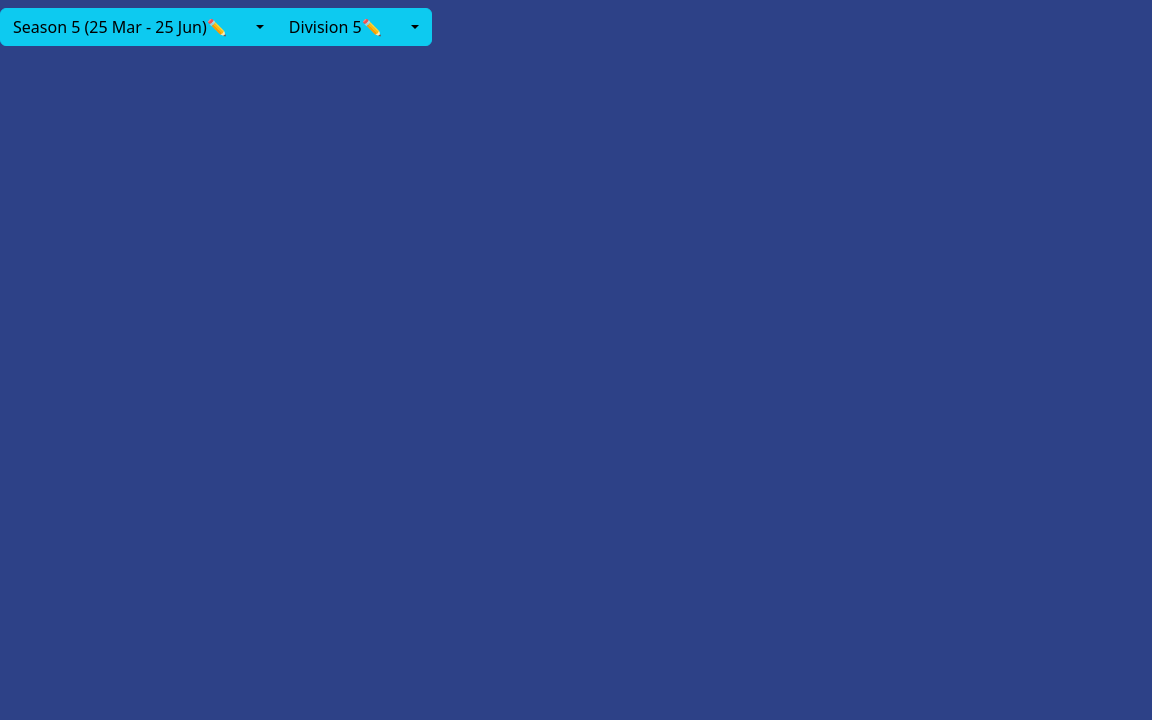
Scenario: DivisionControls › interactivity › when logged in › handles error when saving season details
This screenshot has width=1152, height=720.
Click the button "Season 5 (25 Mar - 25 Jun)✏" at [120, 27], box [0,8,240,46]
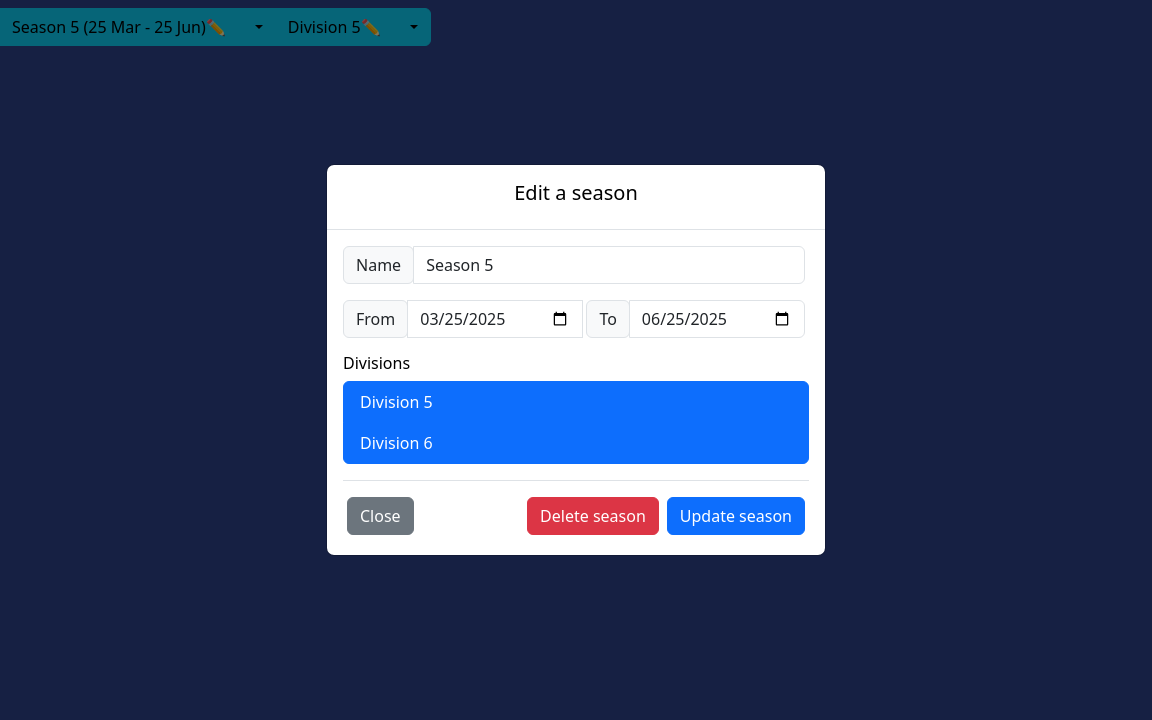
Click the button "Update season" at [736, 516], box [667,497,805,535]
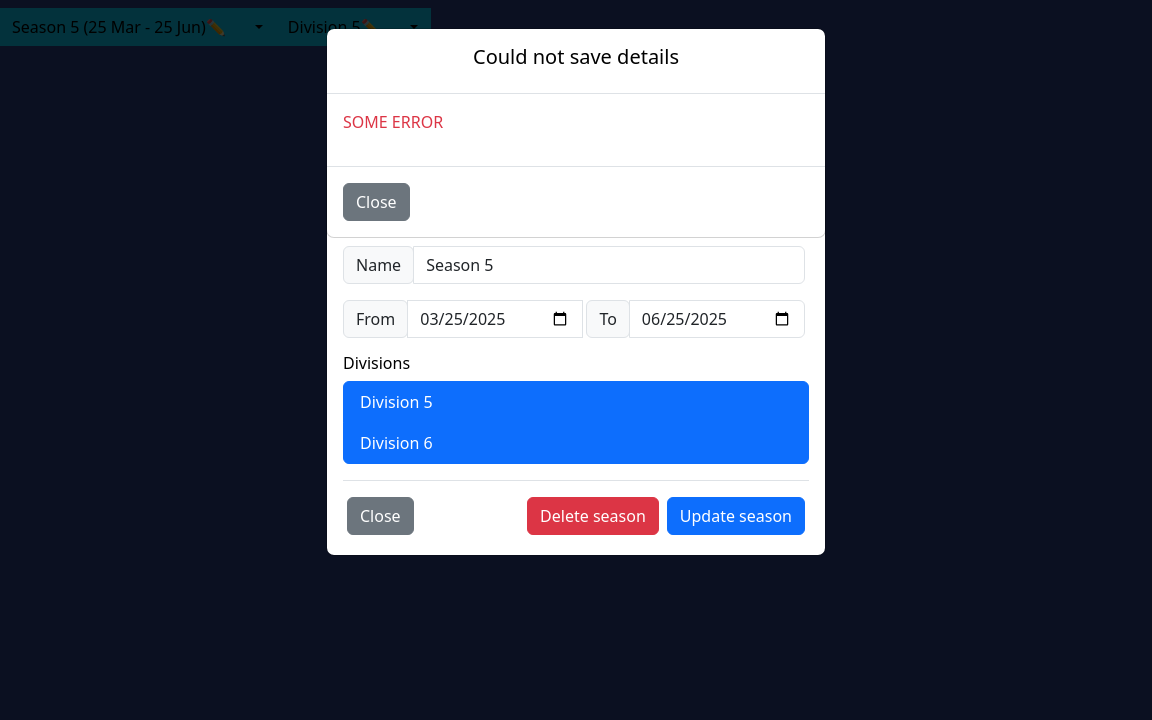
Check: the text "Could not save details" is shown, box [473,45,679,69]
Check: the text "SOME ERROR" is shown, box [343,111,443,133]
